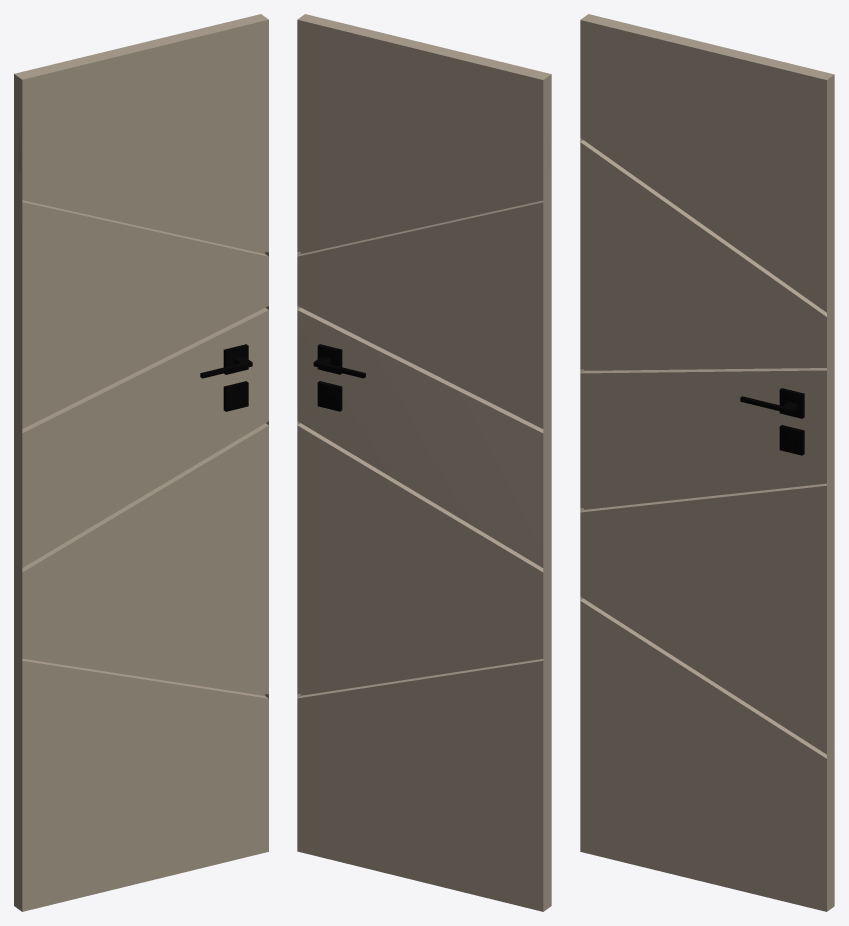
File: RP_3_3a_door.glb
3 renders of one model, left to right at view 1: azimuth 30°, elevation 25°; view 2: azimuth 150°, elevation 25°; view 3: azimuth 330°, elevation 25°, orthographic.
Parts seen in each view (by area): view 1: RP_3__3a_door_; view 2: RP_3__3a_door_; view 3: RP_3__3a_door_.
Part boxes in pixels (x1,y1,x2,y2): RP_3__3a_door_: (14, 14, 268, 911); RP_3__3a_door_: (297, 14, 551, 911); RP_3__3a_door_: (580, 14, 834, 911).
Bounding box in the file's own units: 0.5467 × 1.76 × 0.108.
1 material, 1 textured.
